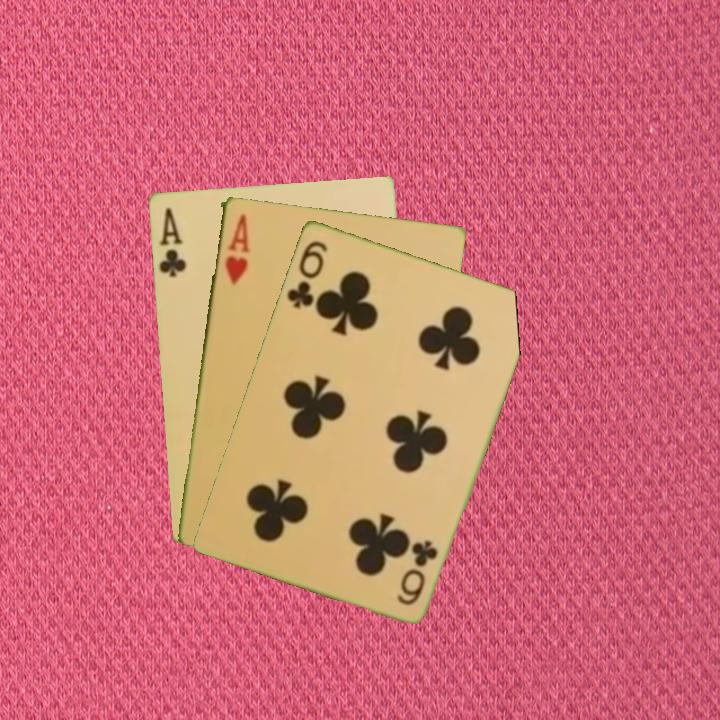6c: (282, 236, 331, 311), (394, 536, 441, 608)
Ac: (155, 204, 188, 280)
Ah: (221, 210, 252, 288)
